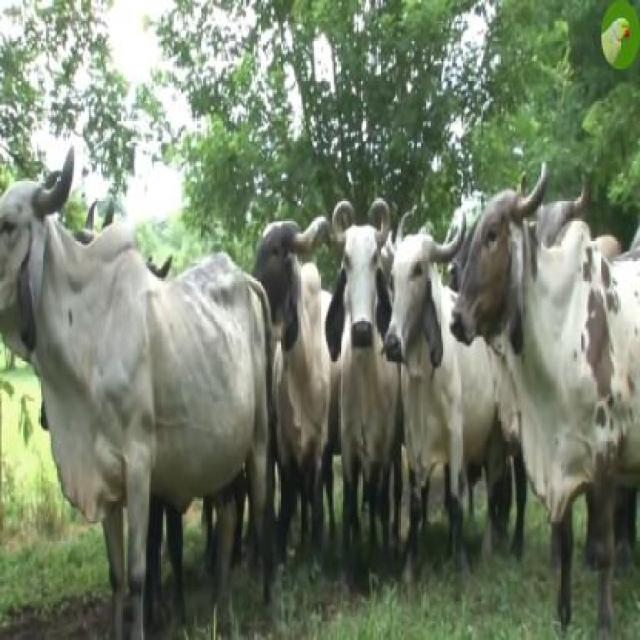Cow: (0, 151, 271, 629), (457, 183, 638, 639), (331, 195, 400, 572), (392, 203, 456, 546)
